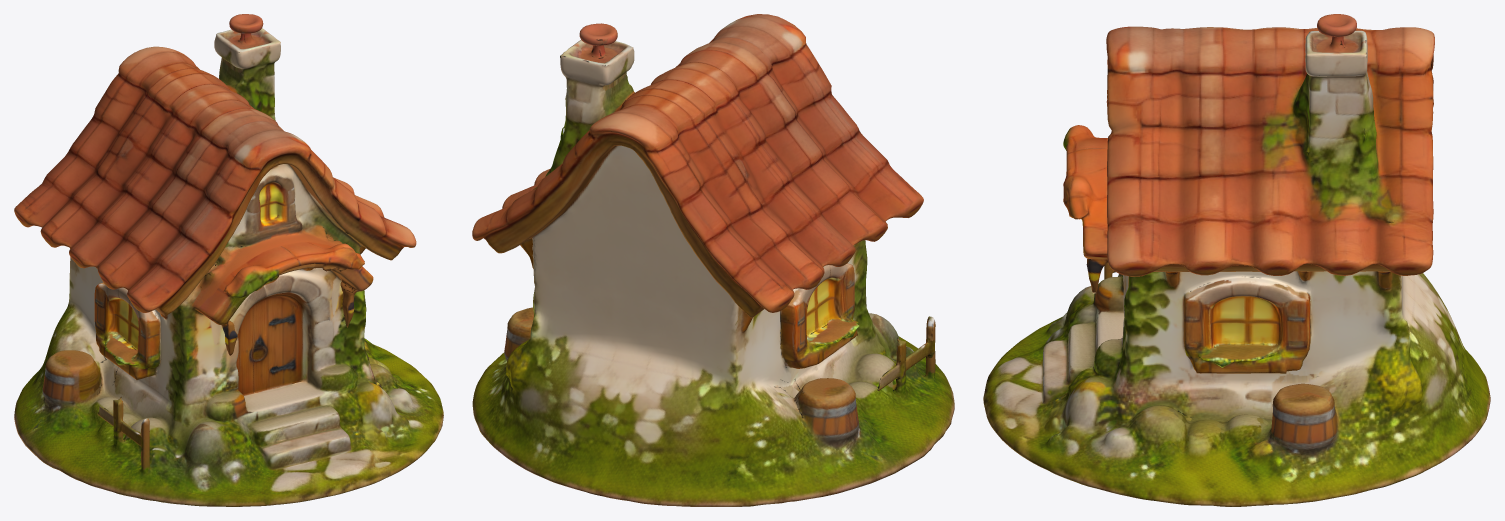
File: woodland-cottage.glb
3 renders of one model, left to right at view 1: azimuth 30°, elevation 25°; view 2: azimuth 150°, elevation 25°; view 3: azimuth 270°, elevation 25°, orthographic. The views are drawn at different scales.
Parts seen in each view (by area): view 1: model; view 2: model; view 3: model.
Boxes of the visible parts, box(x1,y1,x2,y2) form: model: box(14, 14, 443, 506); model: box(472, 14, 954, 506); model: box(983, 14, 1490, 506).
Size of the model in its own units: 1.9 by 1.71 by 1.9.
Materials: 1 (1 with a texture image).
